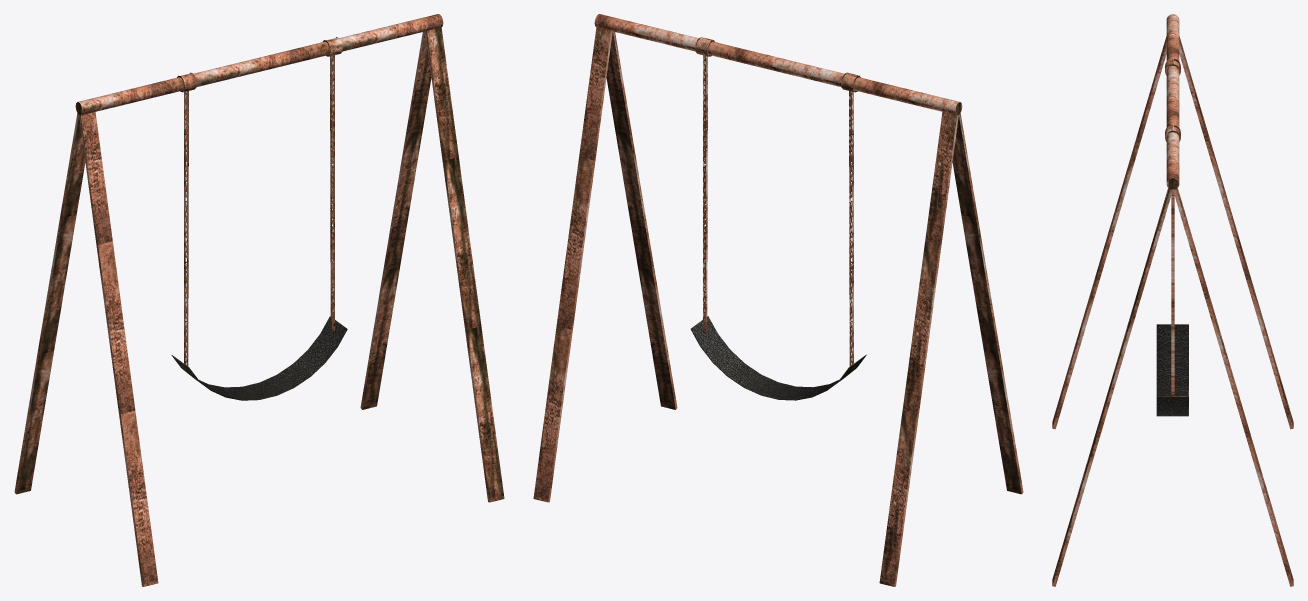
Rendered from swingModel.fbx.
3 renders of one model, left to right at view 1: azimuth 30°, elevation 25°; view 2: azimuth 150°, elevation 25°; view 3: azimuth 270°, elevation 25°, orthographic. The views are drawn at different scales.
Visible parts, largest first — view 1: swingModel1; view 2: swingModel1; view 3: swingModel1.
Boxes of the visible parts, x1=… form: swingModel1: x1=14, y1=14, x2=504, y2=586; swingModel1: x1=533, y1=14, x2=1023, y2=586; swingModel1: x1=1052, y1=14, x2=1293, y2=586.
Bounding box in the file's own units: 27.46 × 31.98 × 17.04.
Materials: 1 (1 with a texture image).
